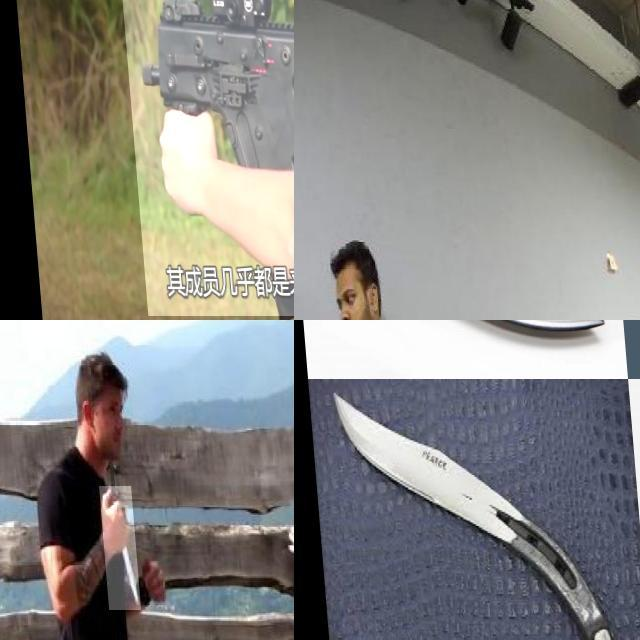-: (304, 379, 520, 592), (331, 320, 612, 447), (95, 486, 135, 610), (327, 320, 339, 326)
gun-knife-thesis - v11 Yolov5 augmented: (115, 0, 294, 316)
